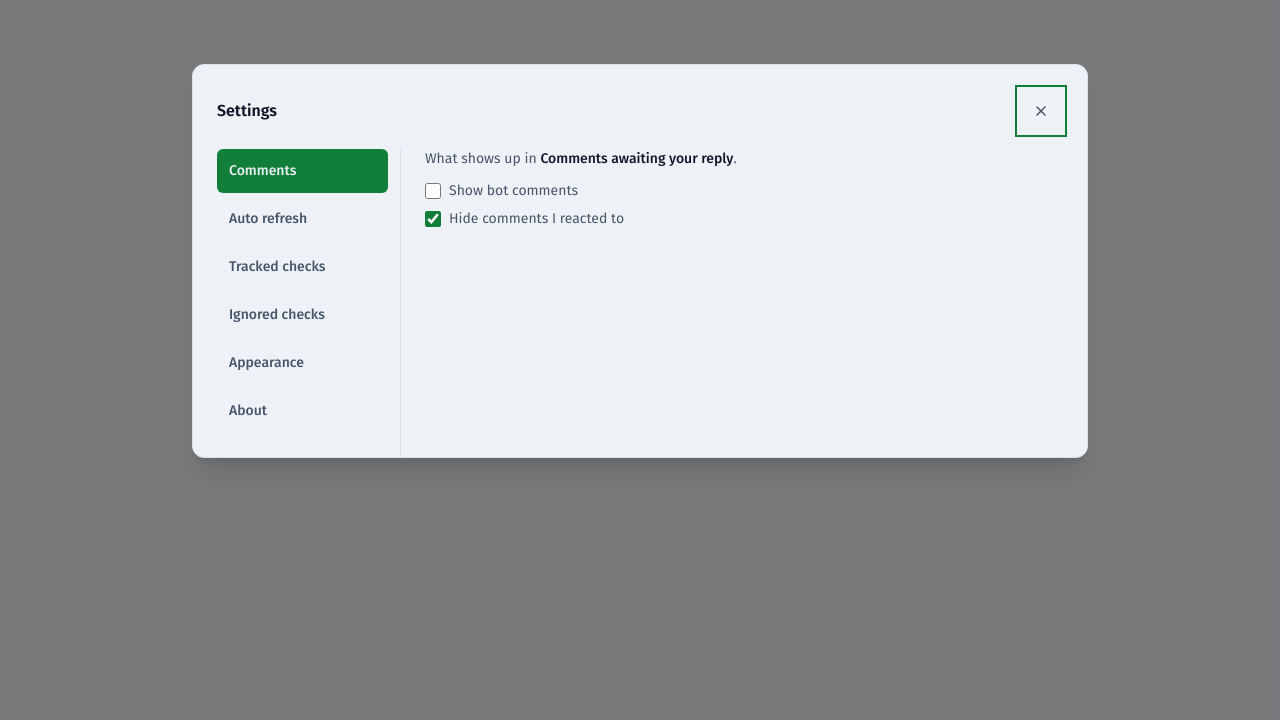
Test: SettingsModal › repo override field shows availableRepos as suggestions on focus
Step 1. Click the tab "Tracked checks" → {"x": 302, "y": 267}, box [217,245,388,289]
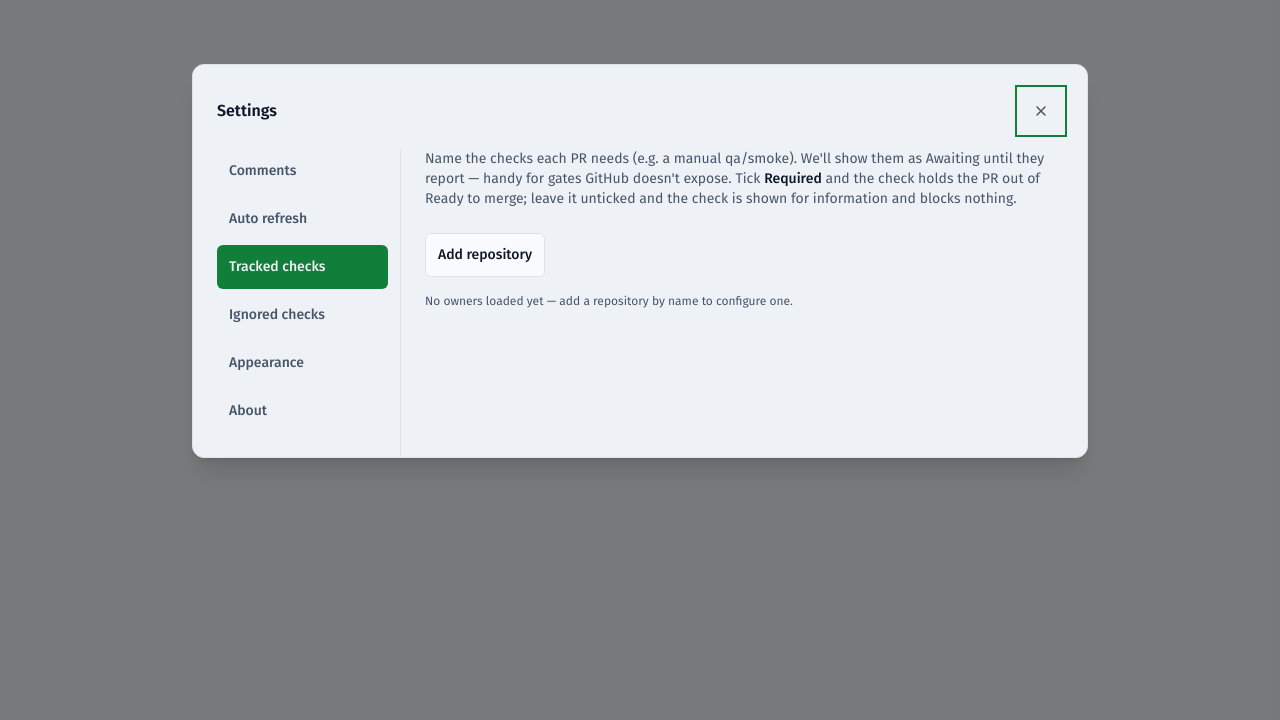
Step 2. Click the button "Add repository" → {"x": 485, "y": 255}, box [425,233,545,277]
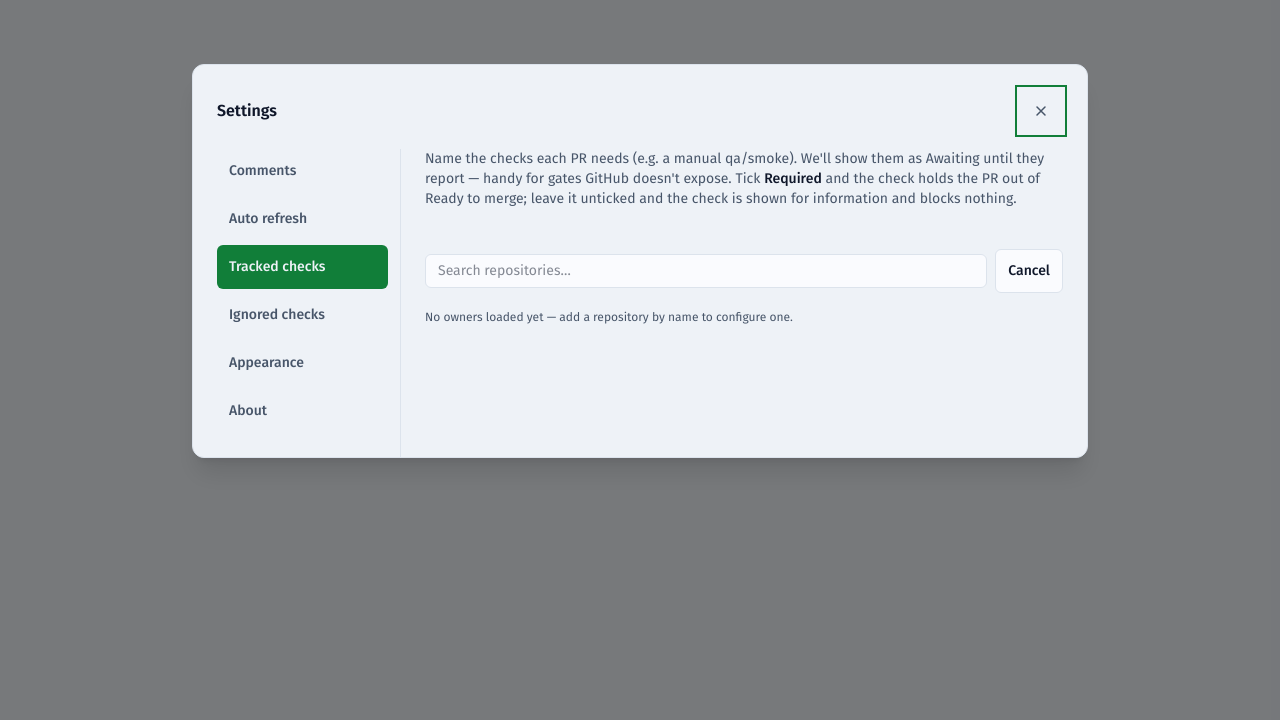
Step 3. Focus the dropdown named "Repository" → {"x": 706, "y": 271}, box [425,254,987,288]
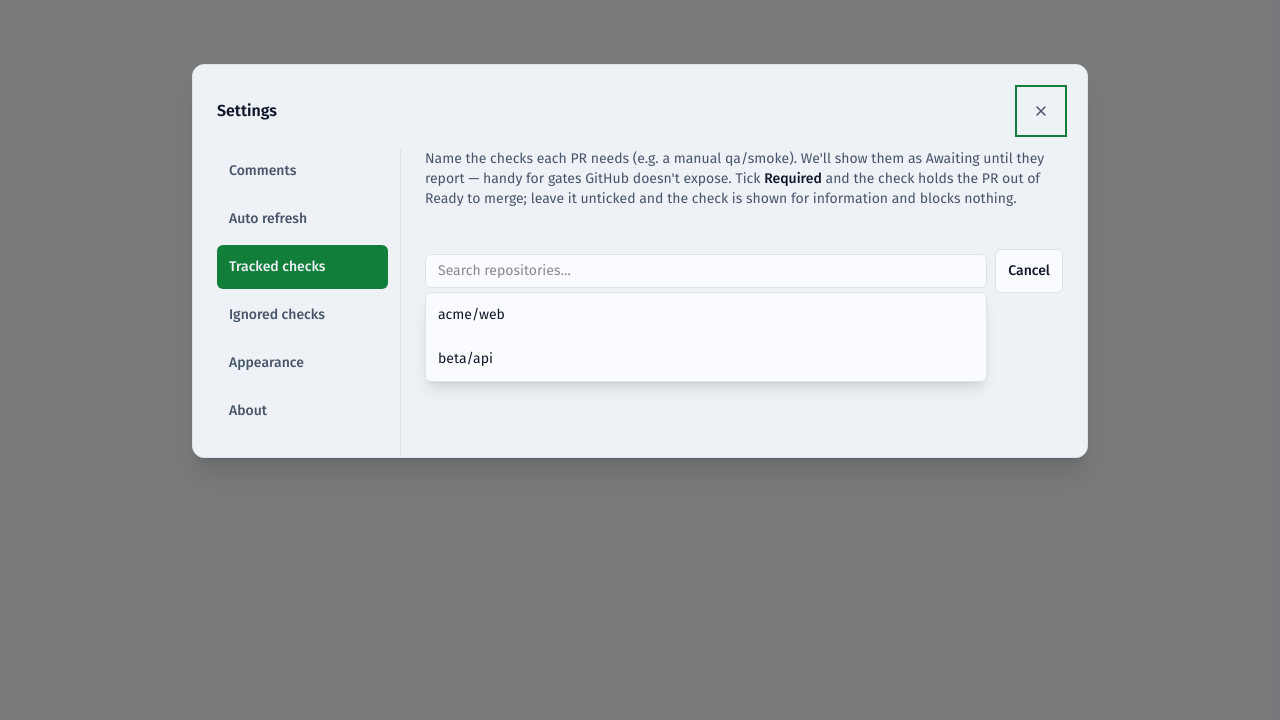
Check: the option "acme/web" is shown, box [438,306,505,323]
Check: the option "beta/api" is shown, box [438,350,493,367]
